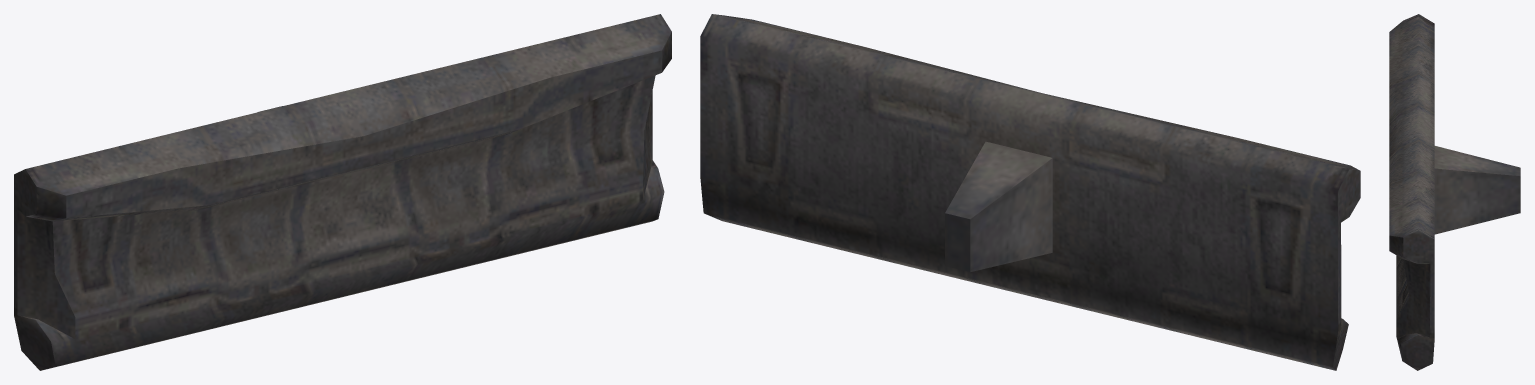
The picture shows the model from 3 angles, left to right: view 1: azimuth 30°, elevation 25°; view 2: azimuth 150°, elevation 25°; view 3: azimuth 270°, elevation 25°; orthographic projection. The views are drawn at different scales.
Visible parts, largest first — view 1: set_0_group_0; view 2: set_0_group_0; view 3: set_0_group_0.
Part boxes in pixels (x1,y1,x2,y2): set_0_group_0: (14, 14, 671, 370); set_0_group_0: (700, 14, 1360, 370); set_0_group_0: (1389, 14, 1520, 370).
Bounding box in the file's own units: 0.5771 × 0.1777 × 0.1476.
Materials: 1 (1 with a texture image).
